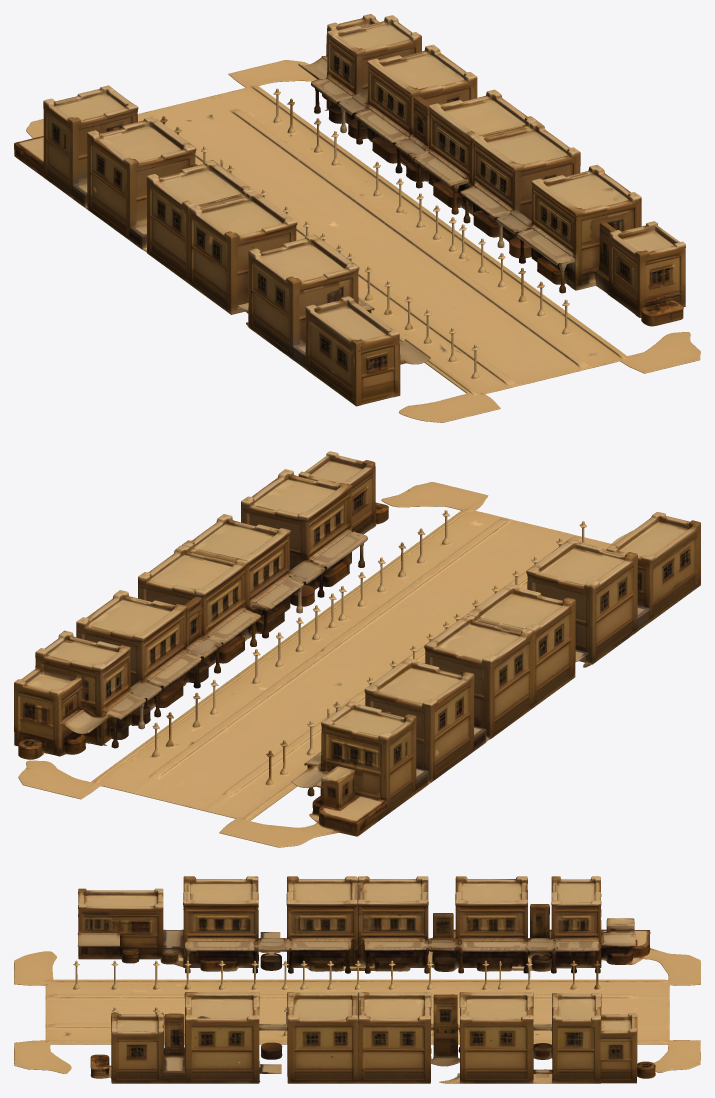
Rendered from frontier-visual.glb.
3 views of the same model, one above another, from view 1: azimuth 30°, elevation 25°; view 2: azimuth 150°, elevation 25°; view 3: azimuth 270°, elevation 25° (orthographic). The views are drawn at different scales.
Parts seen in each view (by area): view 1: node_0; view 2: node_0; view 3: node_0.
Part boxes in pixels (left/top/right/bottom): node_0: left=14, top=14, right=700, bottom=422; node_0: left=14, top=451, right=700, bottom=847; node_0: left=14, top=876, right=700, bottom=1083.
Size of the model in its own units: 0.552 by 0.1184 by 1.12.
Materials: 1 (1 with a texture image).
